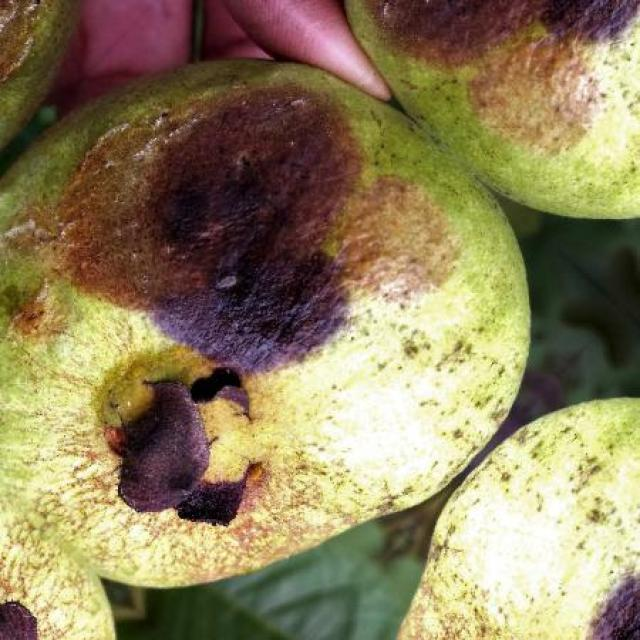Styler and Root: (0, 61, 529, 639), (346, 0, 640, 218), (398, 399, 640, 640)
